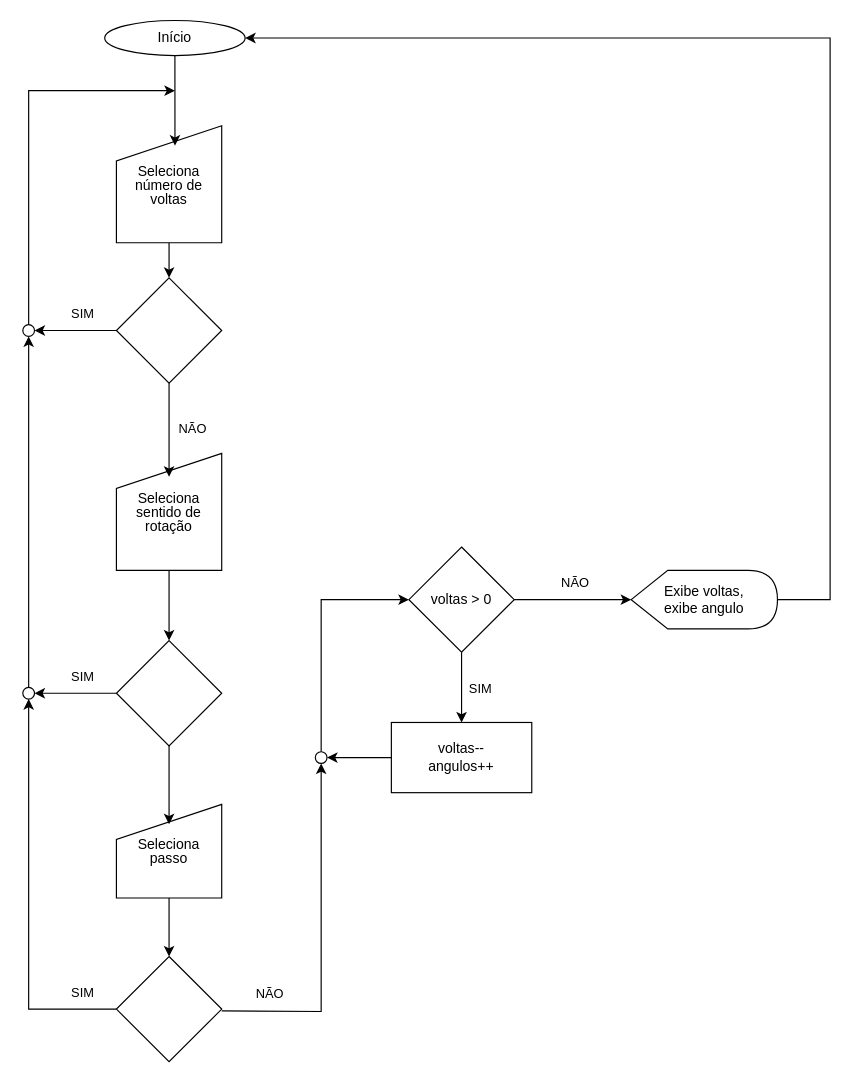
This 860x1082 diagram has some shape labels left out. The shapes that lost their labels are listed below. From the top down, each one's centre as x and y in pixels, then its label:
(x=168, y=330): Número inválido
(x=168, y=692): Sentido inválido
(x=168, y=1008): Passo inválido
